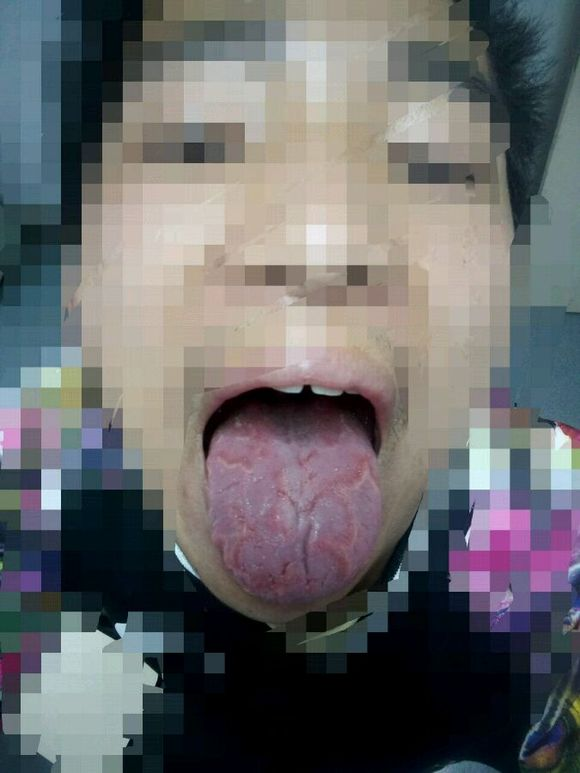baitaishe: (206, 403, 381, 605)
botaishe: (323, 450, 372, 500)
liewenshe: (277, 488, 319, 587)
zishe: (206, 403, 381, 605)
